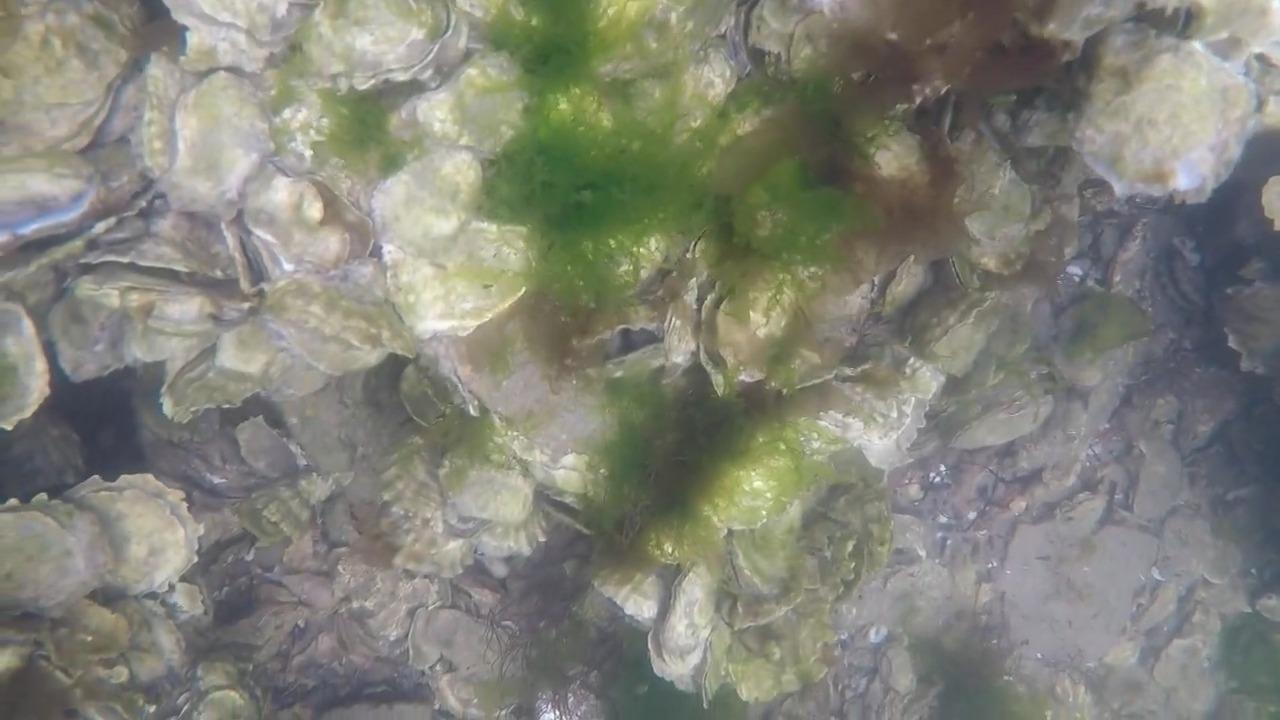Oyster: (1070, 33, 1260, 205), (441, 322, 624, 474), (0, 2, 148, 162), (43, 261, 221, 389), (274, 0, 484, 98), (249, 268, 418, 389), (154, 66, 280, 218), (382, 225, 538, 346), (373, 149, 519, 275), (235, 161, 376, 277), (67, 475, 201, 594), (947, 135, 1048, 277), (160, 324, 298, 425), (273, 367, 390, 485), (156, 1, 325, 77), (0, 494, 105, 615), (410, 602, 523, 690), (913, 289, 1015, 386), (1040, 289, 1152, 377), (2, 157, 104, 250), (648, 565, 720, 691), (438, 460, 543, 542), (717, 623, 817, 709), (941, 387, 1054, 455), (0, 296, 54, 430), (1124, 420, 1187, 523), (46, 593, 135, 665), (1152, 499, 1231, 580), (1145, 630, 1222, 713), (1168, 1, 1280, 58), (231, 412, 306, 481), (190, 685, 254, 720)
